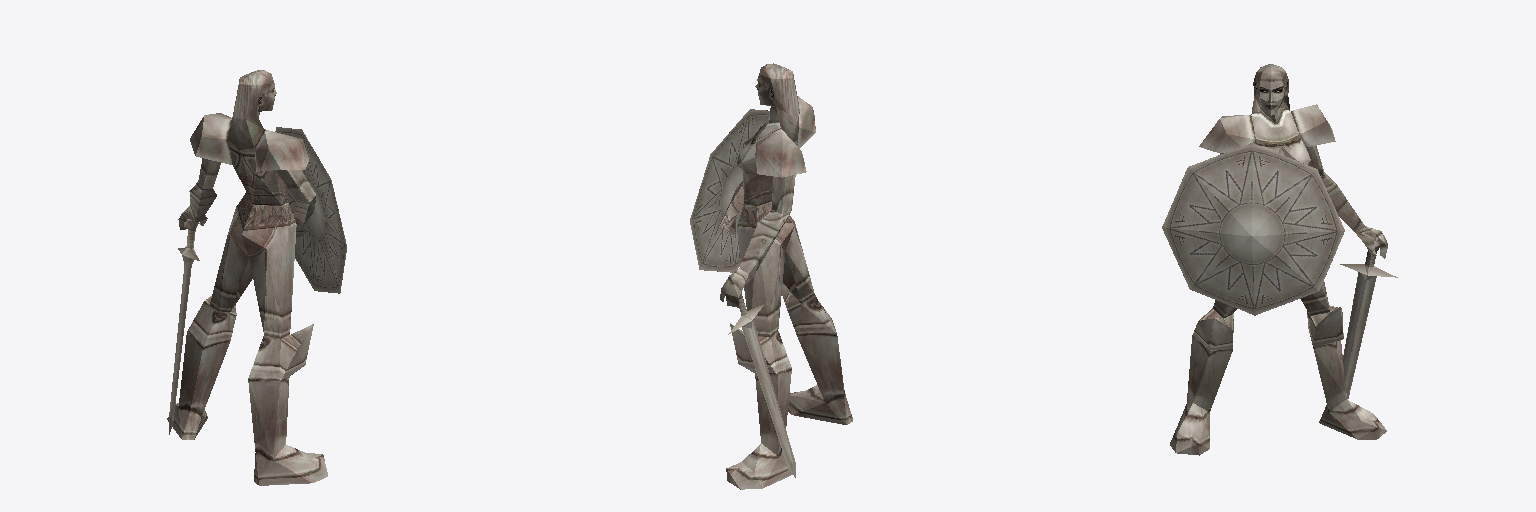
3 views of the same model, side by side, from view 1: azimuth 30°, elevation 25°; view 2: azimuth 150°, elevation 25°; view 3: azimuth 270°, elevation 25° (orthographic).
Visible parts, largest first — view 1: object 1; view 2: object 1; view 3: object 1.
Part boxes in pixels (left/top/right/bottom): object 1: left=167, top=70, right=346, bottom=485; object 1: left=690, top=63, right=852, bottom=489; object 1: left=1162, top=64, right=1397, bottom=455.
Size of the model in its own units: 0.594 by 1.87 by 1.06.
Materials: 1 (1 with a texture image).